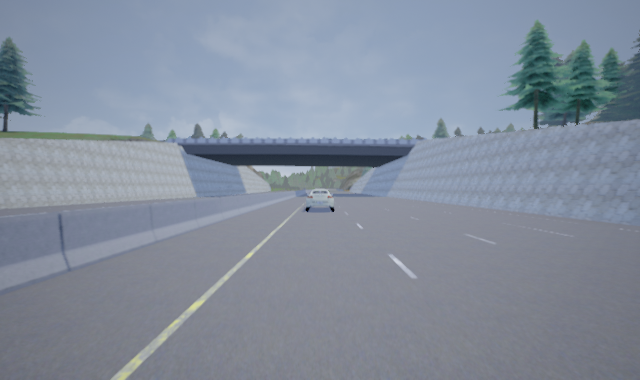vehicle: (305, 188, 335, 211)
